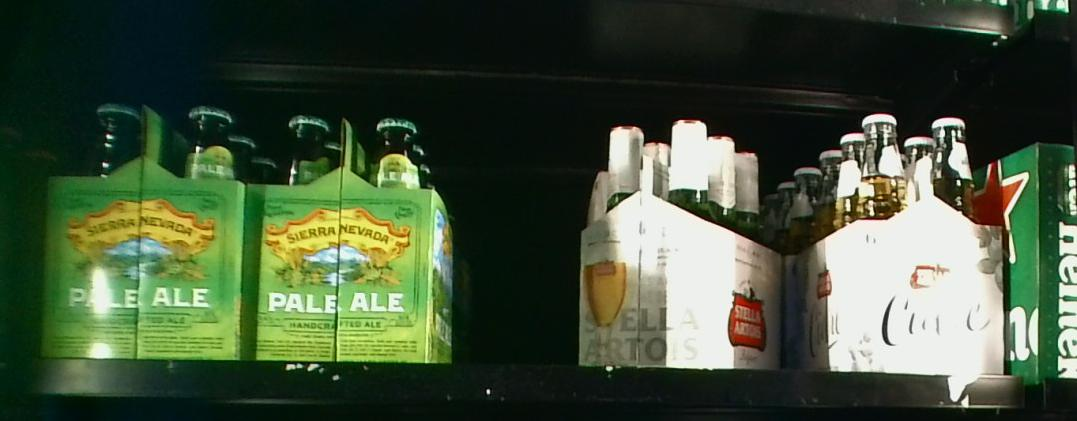bottle: (789, 112, 1001, 372), (46, 94, 245, 360), (580, 123, 785, 369), (254, 111, 453, 363)
